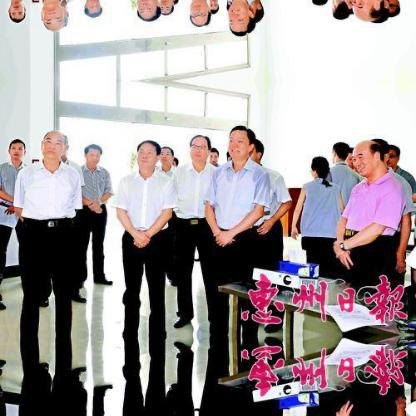head: (349, 138, 385, 177), (226, 123, 256, 163), (226, 0, 257, 36), (133, 136, 162, 170), (39, 127, 67, 162), (39, 0, 68, 32), (188, 131, 211, 166), (349, 0, 386, 21), (132, 0, 162, 23), (187, 0, 211, 28), (308, 152, 329, 181), (246, 135, 265, 164), (83, 141, 103, 168), (328, 138, 349, 163), (245, 0, 265, 24), (327, 0, 349, 21), (6, 136, 26, 159), (6, 0, 26, 23), (159, 142, 176, 166), (385, 143, 401, 168), (83, 0, 104, 18), (158, 0, 176, 17), (385, 0, 402, 16), (207, 145, 218, 165), (206, 0, 218, 14), (307, 0, 329, 7)
